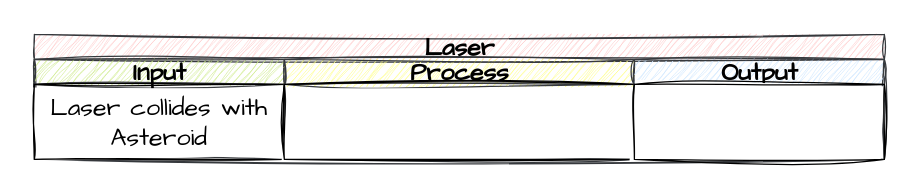
This 918x193 diagram has some shape labels left out. Here are the shapes that lost their labels. From the top down, the centre of each, then its label:
(x=458, y=121): delete_object(asteroid)
(x=758, y=121): asteroid disappears
